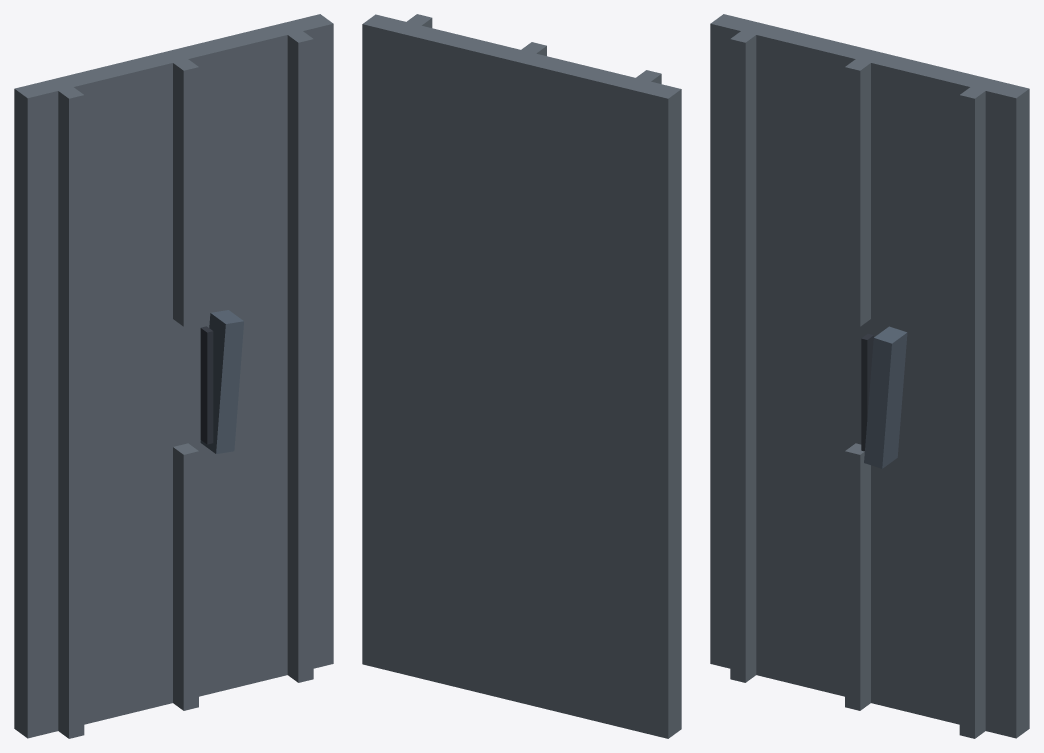
Rendered from Lab_Wall_Damaged.fbx.
3 views of the same model, side by side, from view 1: azimuth 30°, elevation 25°; view 2: azimuth 150°, elevation 25°; view 3: azimuth 330°, elevation 25° (orthographic).
Parts seen in each view (by area): view 1: Lab_Wall_Damaged; view 2: Lab_Wall_Damaged; view 3: Lab_Wall_Damaged.
Boxes of the visible parts, x1,y1,x2,y2 form: Lab_Wall_Damaged: [14, 14, 333, 738]; Lab_Wall_Damaged: [362, 14, 681, 738]; Lab_Wall_Damaged: [710, 14, 1029, 738].
Size of the model in its own units: 4 by 8 by 0.695.
